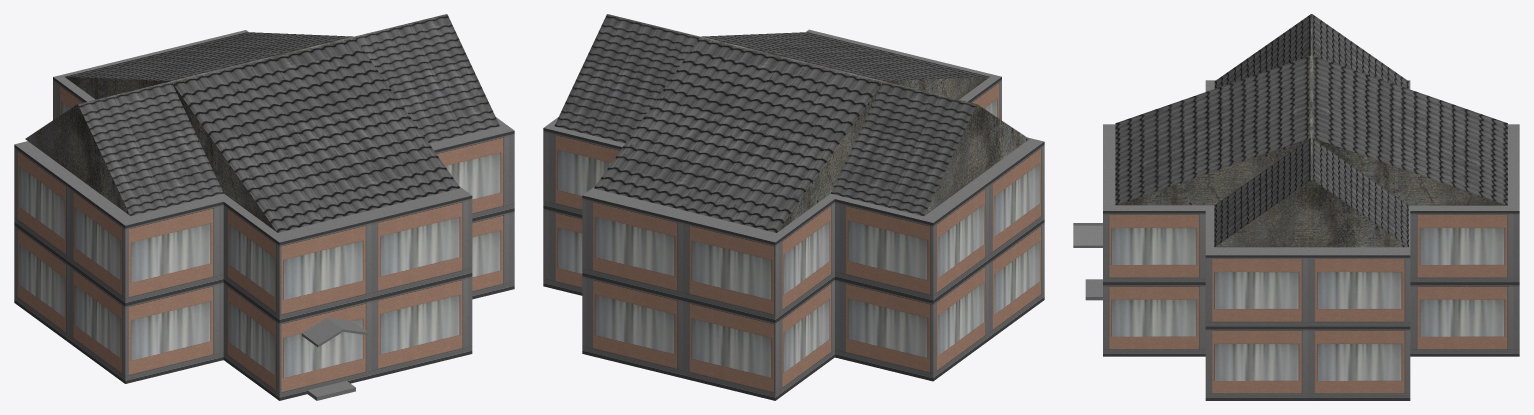
The model's file is LOD01_Building_2stiores_House.obj.
3 renders of one model, left to right at view 1: azimuth 30°, elevation 25°; view 2: azimuth 150°, elevation 25°; view 3: azimuth 270°, elevation 25°, orthographic. The views are drawn at different scales.
Visible parts, largest first — view 1: LOD01_Building_2stiores_House; view 2: LOD01_Building_2stiores_House; view 3: LOD01_Building_2stiores_House.
Part boxes in pixels (<box>): LOD01_Building_2stiores_House: <box>14,14,514,400</box>; LOD01_Building_2stiores_House: <box>543,14,1044,400</box>; LOD01_Building_2stiores_House: <box>1073,14,1519,400</box>.
Bounding box in the file's own units: 5.24 × 3.02 × 5.65.
